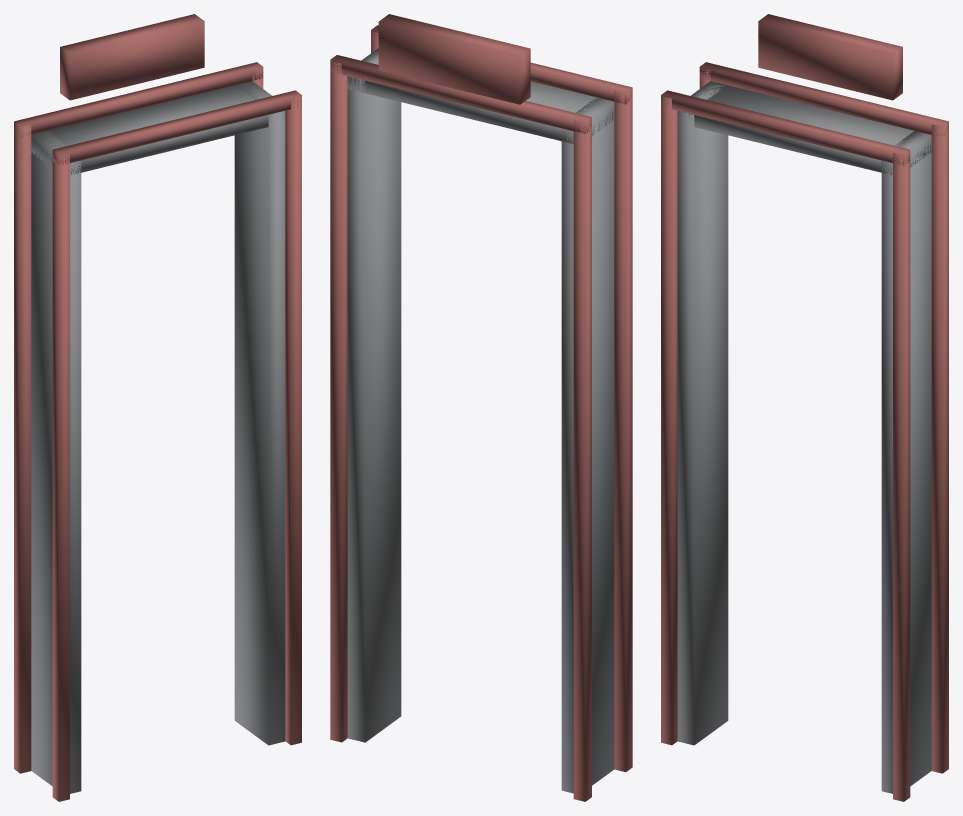
The model's file is doorway_emergency_exit_w76_h240_d24.glb.
The picture shows the model from 3 angles, left to right: view 1: azimuth 30°, elevation 25°; view 2: azimuth 150°, elevation 25°; view 3: azimuth 330°, elevation 25°; orthographic projection. The views are drawn at different scales.
Visible parts, largest first — view 1: world; view 2: world; view 3: world.
Boxes of the visible parts, bbox=[...] form: world: bbox=[14, 14, 301, 801]; world: bbox=[330, 14, 632, 801]; world: bbox=[661, 14, 948, 801].
Size of the model in its own units: 0.9868 by 2.73 by 0.3733.
